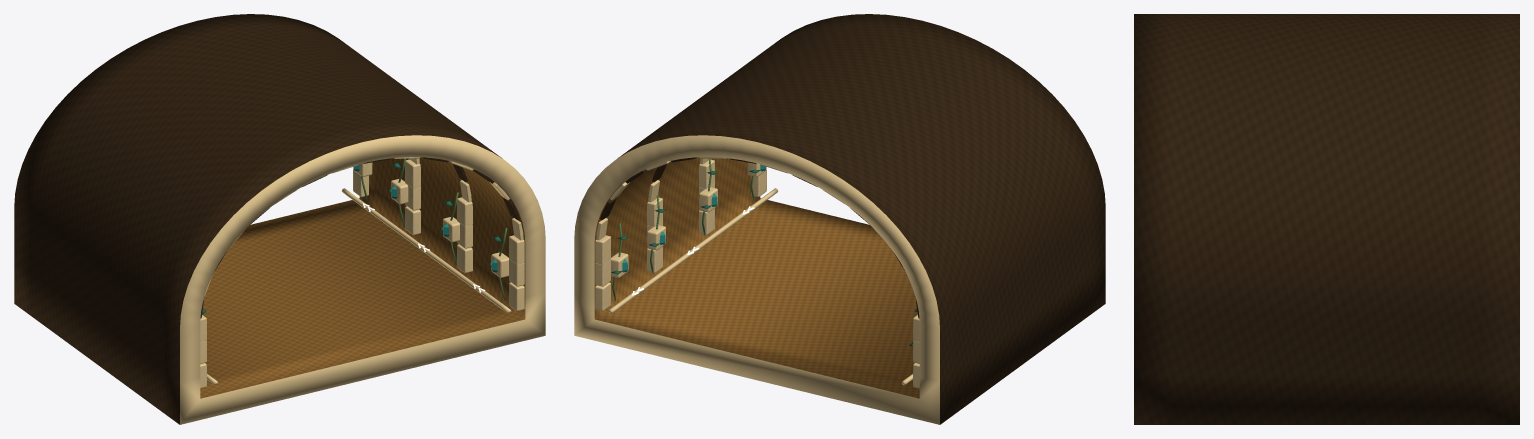
Rendered from straight_12m.glb.
The picture shows the model from 3 angles, left to right: view 1: azimuth 30°, elevation 25°; view 2: azimuth 150°, elevation 25°; view 3: azimuth 270°, elevation 25°; orthographic projection. The views are drawn at different scales.
Visible parts, largest first — view 1: TunnelGeometry; view 2: TunnelGeometry; view 3: TunnelGeometry.
Boxes of the visible parts, box(x1,y1,x2,y2) form: TunnelGeometry: box(14, 14, 545, 424); TunnelGeometry: box(574, 14, 1105, 424); TunnelGeometry: box(1134, 14, 1519, 424).
Bounding box in the file's own units: 15.3 × 9.52 × 12.
7 materials, 2 textured.
